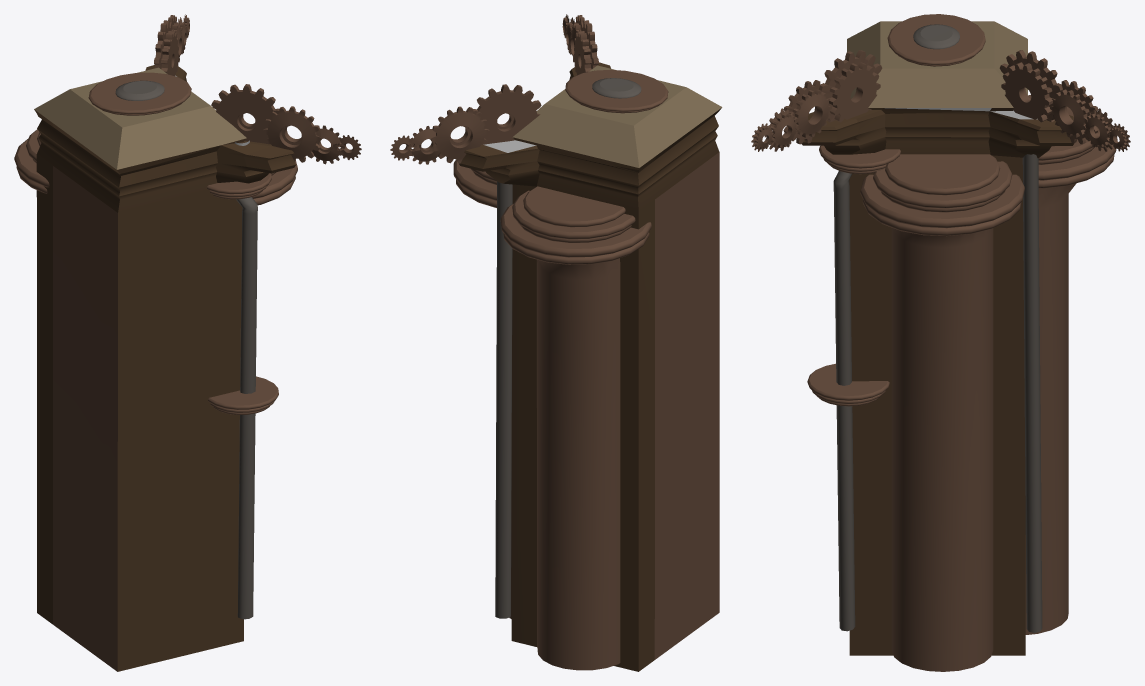
Rendered from GearBuilding.fbx.
3 renders of one model, left to right at view 1: azimuth 30°, elevation 25°; view 2: azimuth 150°, elevation 25°; view 3: azimuth 270°, elevation 25°, orthographic. The views are drawn at different scales.
Parts seen in each view (by area): view 1: polySurface70, polySurface69, polySurface38, polySurface39; view 2: polySurface70, polySurface69, polySurface38, polySurface39, polySurface54; view 3: polySurface70, polySurface69, polySurface38, polySurface39, polySurface54.
Part boxes in pixels (x1,y1,x2,y2): polySurface70: (14,65,297,671); polySurface69: (154,20,284,144); polySurface38: (168,15,321,162); polySurface39: (178,17,344,164); polySurface70: (453,62,722,671); polySurface69: (468,20,598,144); polySurface38: (430,15,584,163); polySurface39: (407,17,574,164); polySurface54: (390,14,569,160); polySurface70: (802,14,1117,671); polySurface69: (819,50,1062,122); polySurface38: (783,80,1098,144); polySurface39: (764,108,1117,151); polySurface54: (751,123,1130,151).
Bounding box in the file's own units: 6.92 × 16.64 × 9.46.
